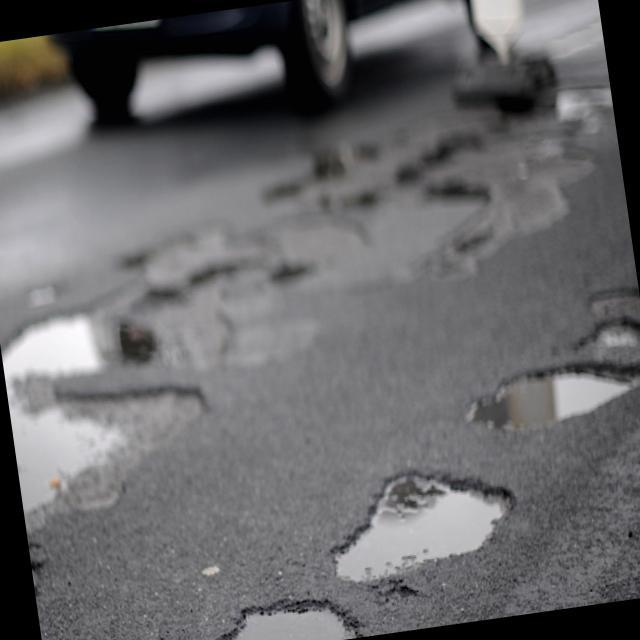Pothole: (320, 455, 522, 583), (462, 339, 640, 446), (199, 587, 356, 640), (582, 277, 640, 320)
